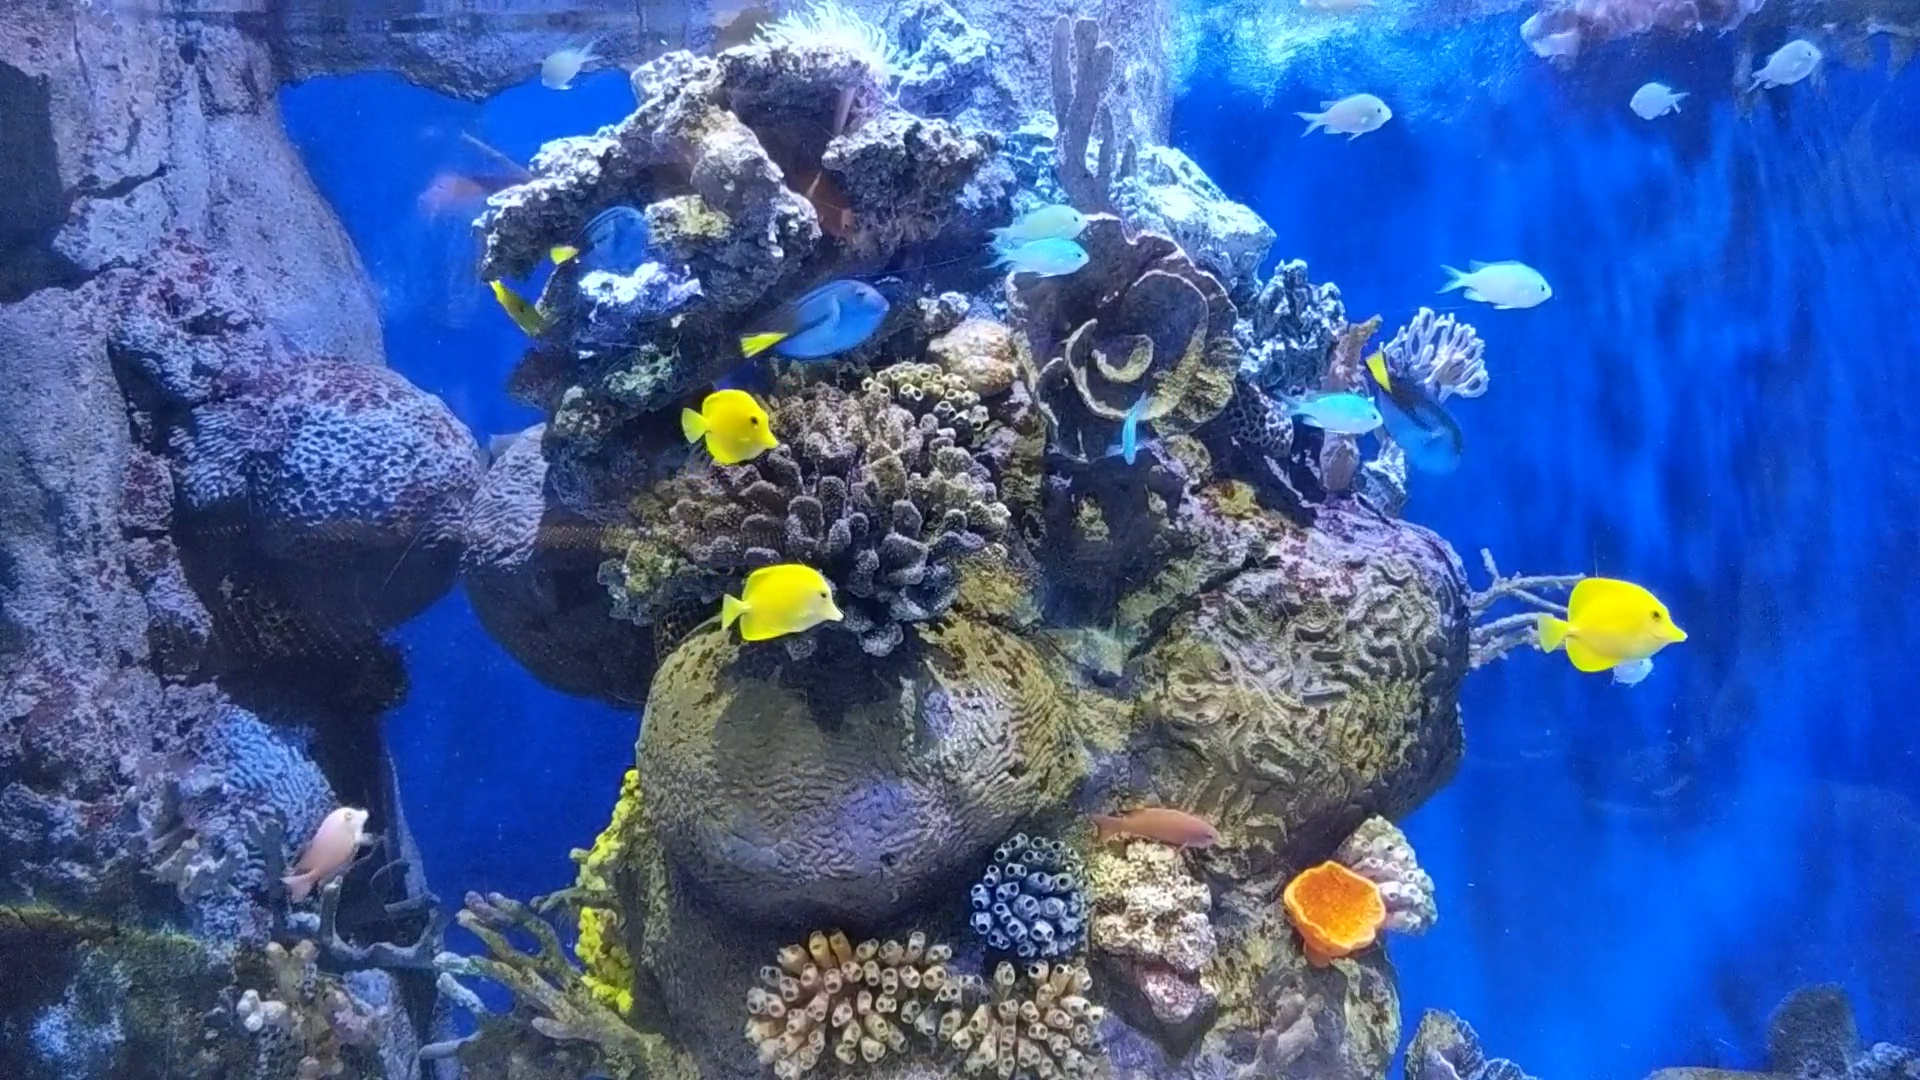blue tang surgeonfish: (1367, 340, 1486, 483), (729, 276, 890, 376), (546, 196, 653, 285)
damselfish: (1425, 252, 1564, 313), (1270, 378, 1386, 444), (1288, 87, 1403, 145), (973, 235, 1102, 282), (986, 194, 1088, 251), (526, 36, 612, 98), (1746, 36, 1824, 98), (1109, 369, 1150, 483), (1623, 73, 1696, 127)
saddle butterfly fish: (1535, 559, 1693, 676), (716, 560, 848, 640), (671, 389, 791, 460), (479, 257, 539, 335)
